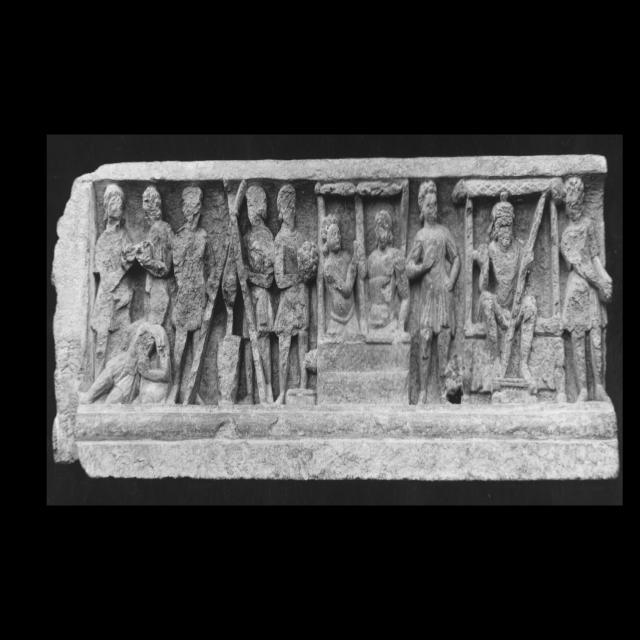buddha-sitting: (474, 191, 548, 396)
